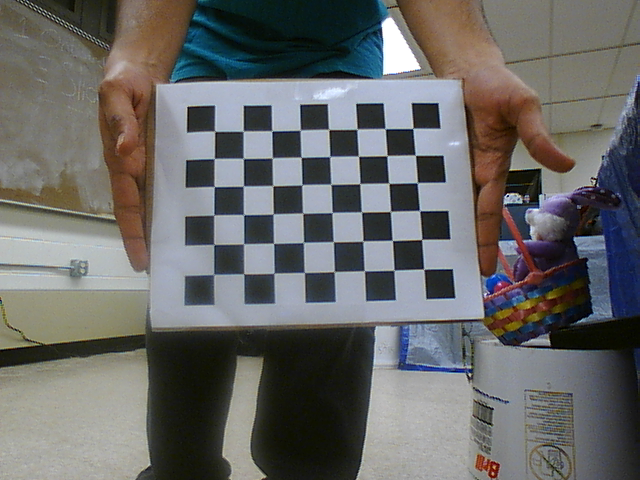bunny: (489, 178, 606, 348)
